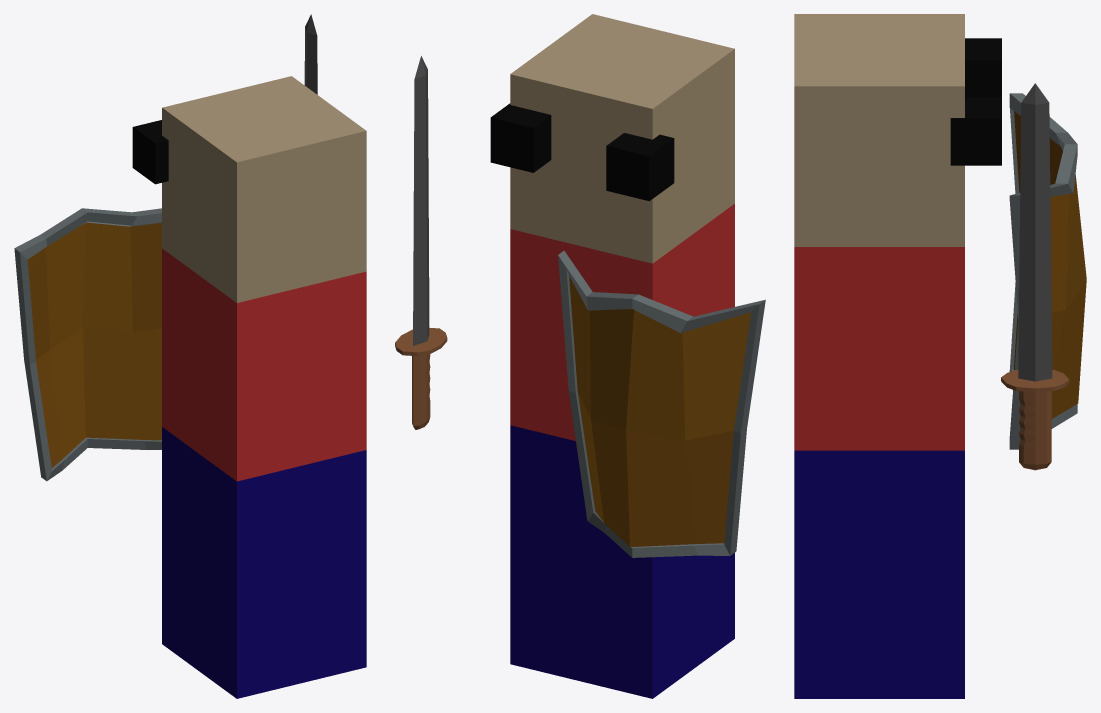
File: Medieval.fbx_Infantry.fbx
3 views of the same model, side by side, from view 1: azimuth 30°, elevation 25°; view 2: azimuth 150°, elevation 25°; view 3: azimuth 270°, elevation 25° (orthographic). The views are drawn at different scales.
Visible parts, largest first — view 1: MediumMan.001, WoodShield.001, Sword.001; view 2: MediumMan.001, WoodShield.001, Sword.001; view 3: MediumMan.001, Sword.001, WoodShield.001.
Part boxes in pixels (<box>): MediumMan.001: <box>132,76,366,698</box>; WoodShield.001: <box>14,208,161,481</box>; Sword.001: <box>304,14,317,94</box>; MediumMan.001: <box>490,14,734,698</box>; WoodShield.001: <box>558,250,765,557</box>; Sword.001: <box>395,56,447,429</box>; MediumMan.001: <box>794,14,1001,698</box>; Sword.001: <box>1001,83,1069,470</box>; WoodShield.001: <box>1009,93,1086,449</box>.
Size of the model in its own units: 96.26 by 66.7 by 162.
